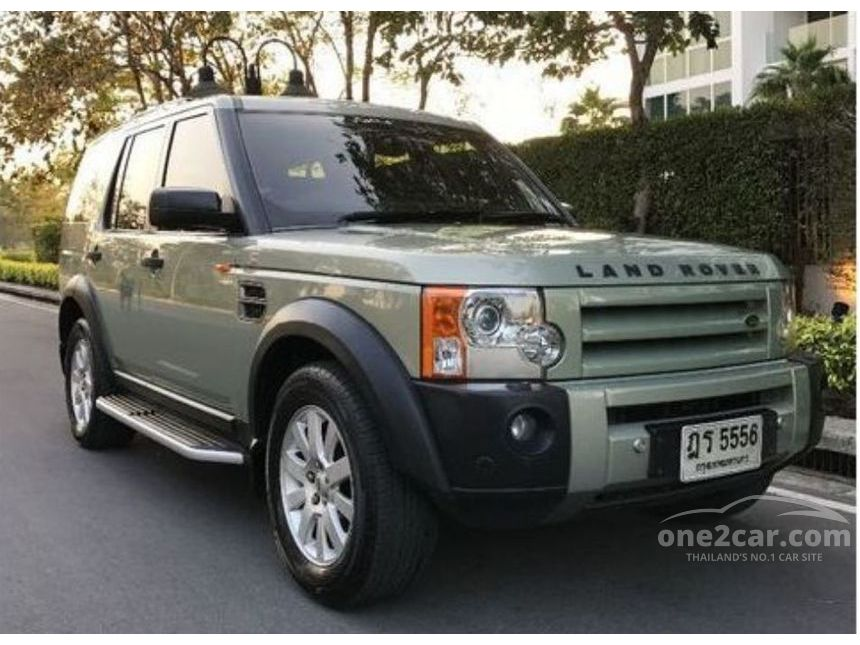pickup: (57, 95, 822, 608)
